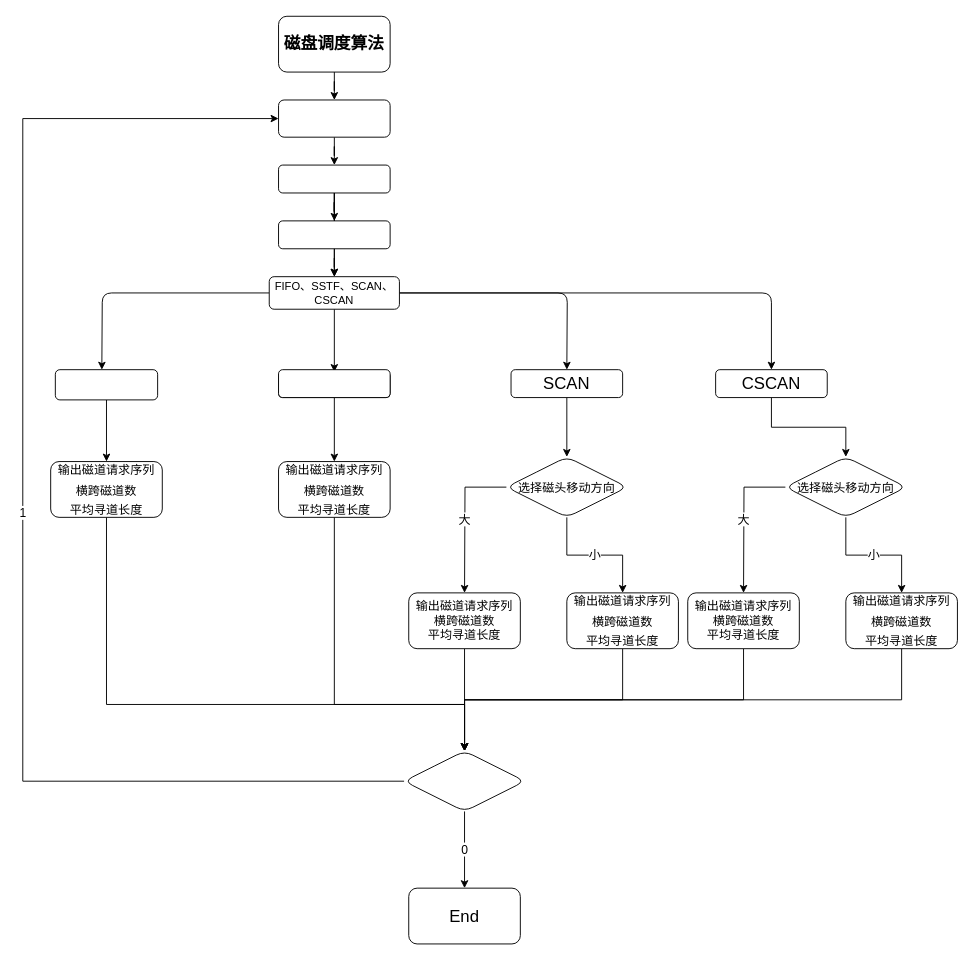
Some shapes in this 974 by 961 pixel diagram are drawn without their labels. The shapes that lost their labels are listed below. From the top down, each one's box as (x1, y1, x2, y2) in pixels, then its label:
(278, 99, 390, 137): Buffer区打印提示输入磁道数
(278, 164, 390, 193): 输入磁道序列(初始磁道默认写在序列开始)
(278, 220, 390, 249): qsort函数对磁道序列进行快排
(54, 369, 158, 400): FIFO
(278, 369, 390, 398): SSTF
(403, 750, 525, 811): 是否继续 1.√ 0.×
